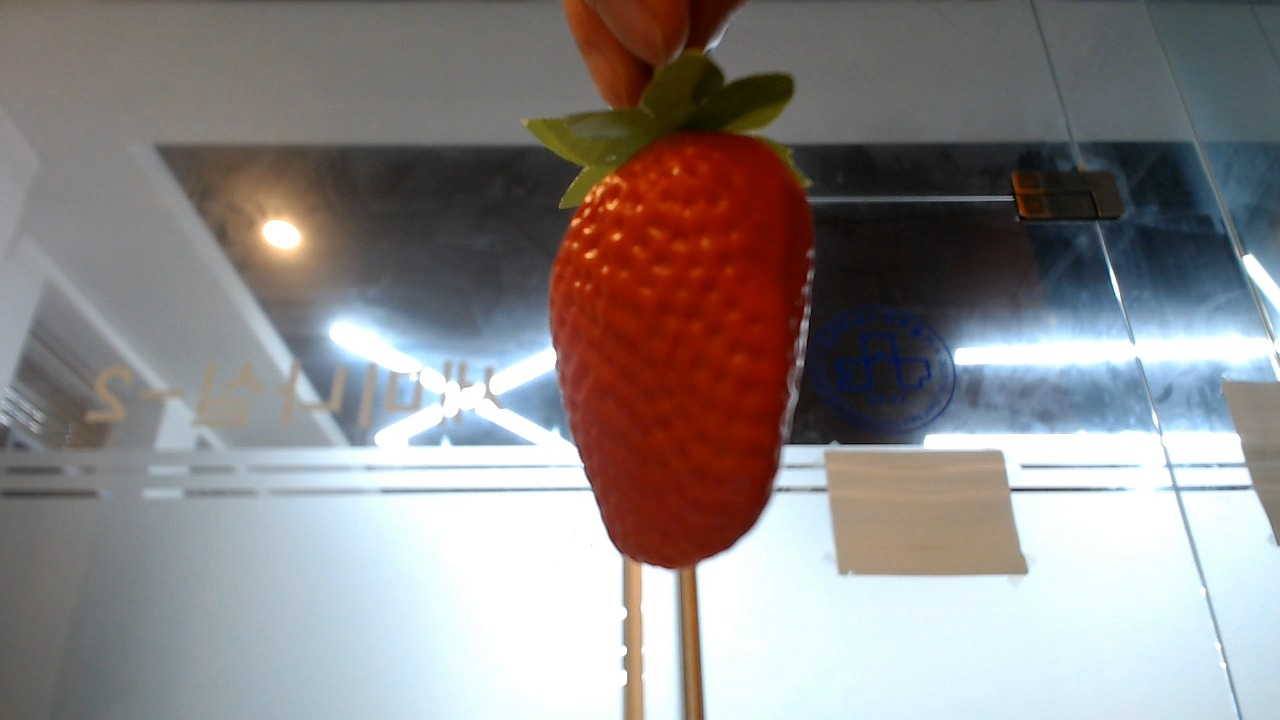strawberry: (519, 104, 840, 573)
